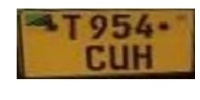T: (60, 12, 83, 42)
